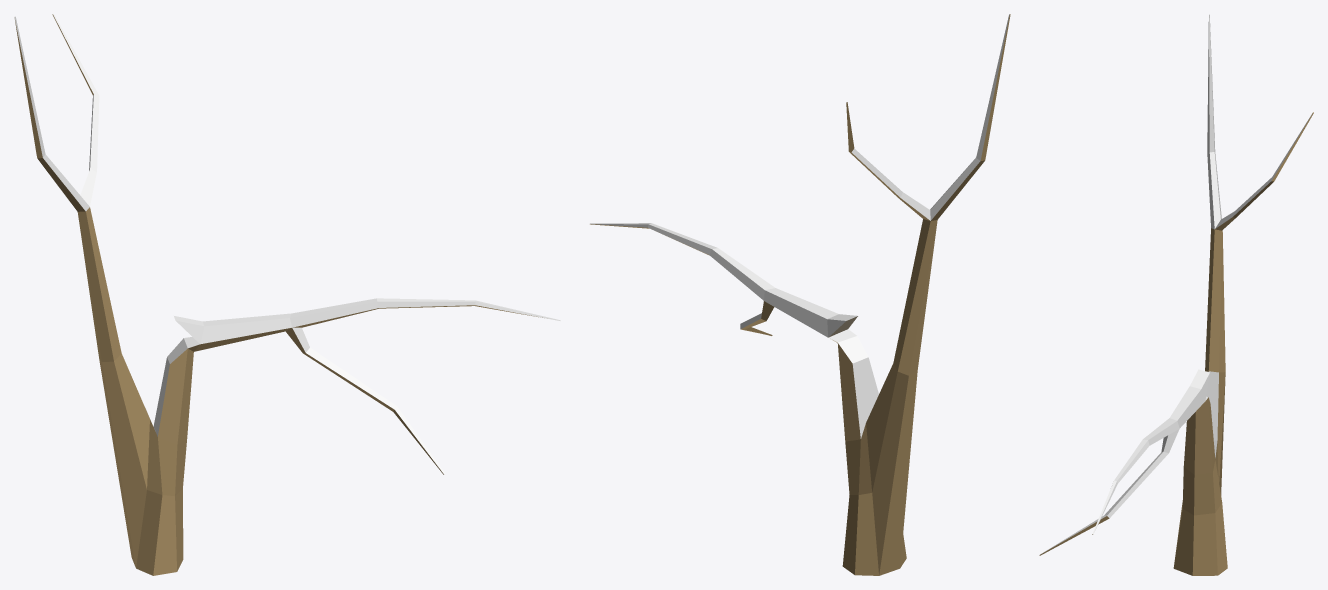
File: Apple_Tree_NoLeaves_crk_m_Snow_04.fbx
3 renders of one model, left to right at view 1: azimuth 30°, elevation 25°; view 2: azimuth 150°, elevation 25°; view 3: azimuth 270°, elevation 25°, orthographic. The views are drawn at different scales.
Parts seen in each view (by area): view 1: Apple_Tree_NoLeaves_crk_m_Snow_04; view 2: Apple_Tree_NoLeaves_crk_m_Snow_04; view 3: Apple_Tree_NoLeaves_crk_m_Snow_04.
Part boxes in pixels (bbox=[...]): Apple_Tree_NoLeaves_crk_m_Snow_04: bbox=[14, 14, 560, 575]; Apple_Tree_NoLeaves_crk_m_Snow_04: bbox=[590, 14, 1010, 575]; Apple_Tree_NoLeaves_crk_m_Snow_04: bbox=[1039, 14, 1313, 575].
Bounding box in the file's own units: 524 × 601 × 303.
